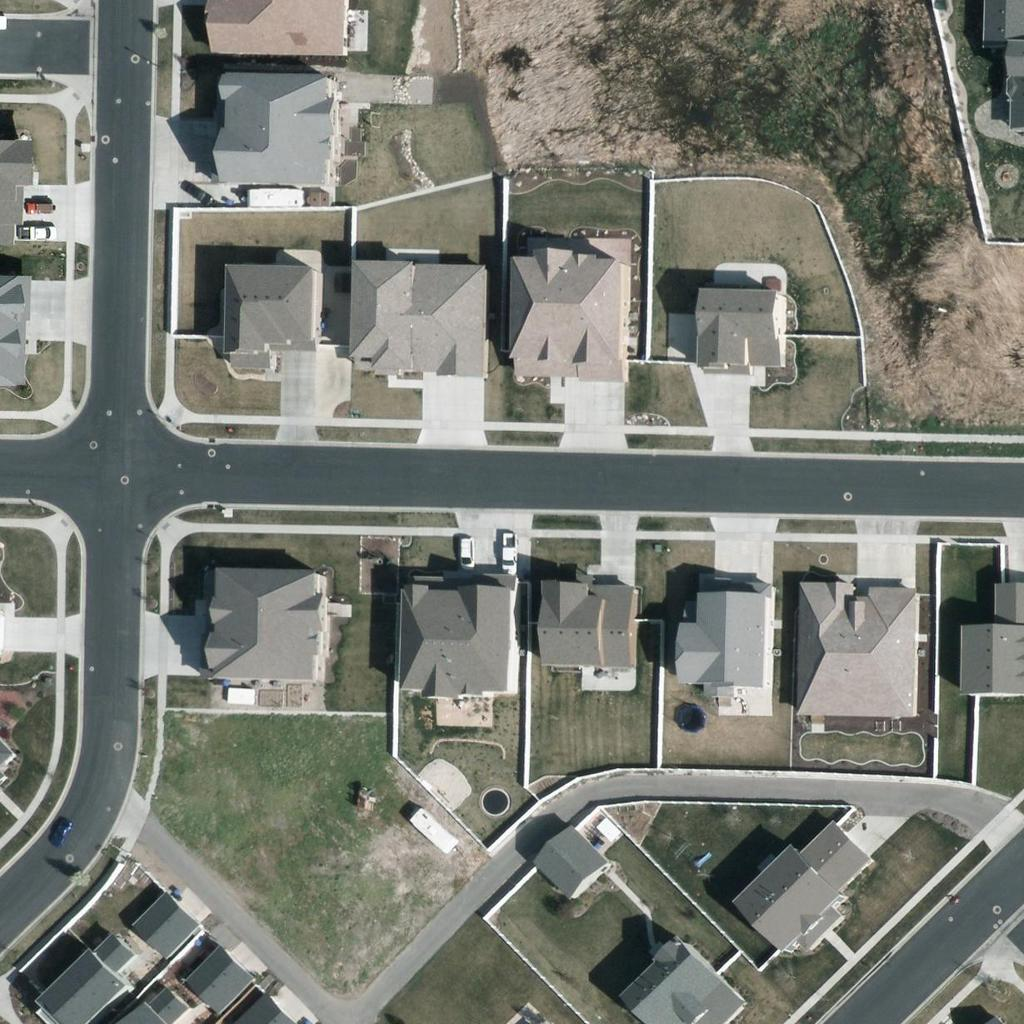car: (177, 173, 211, 207), (22, 188, 56, 222), (21, 217, 55, 251), (447, 535, 481, 569), (489, 538, 523, 572), (43, 813, 77, 847)
